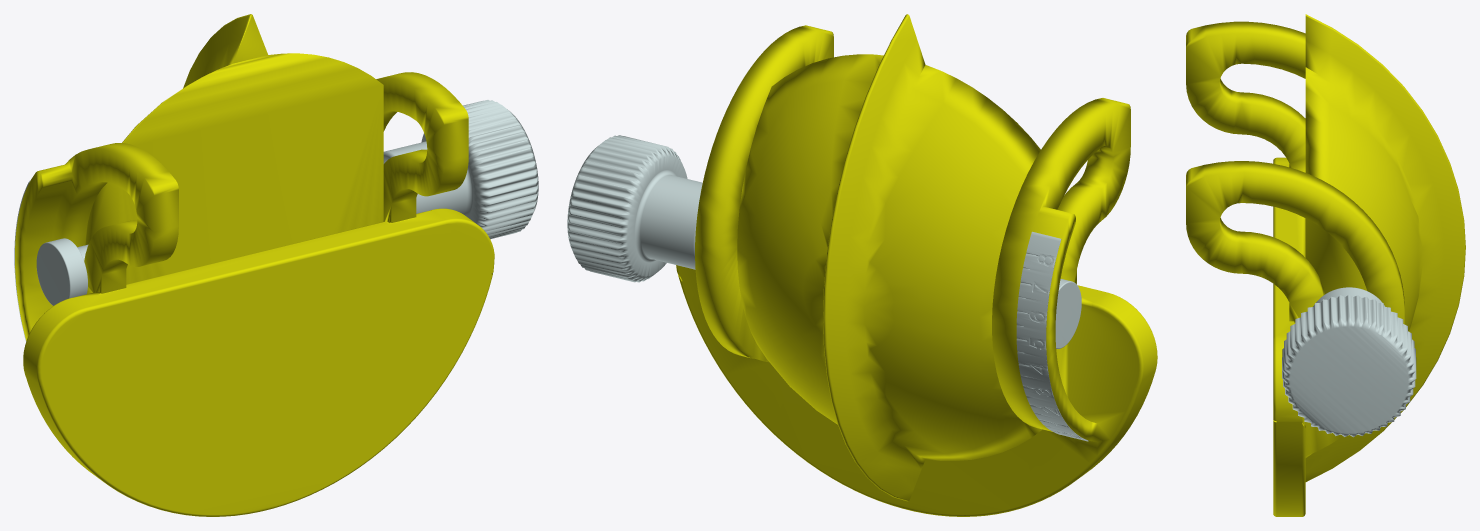
The model's file is tableX_yellow.obj.
3 views of the same model, side by side, from view 1: azimuth 30°, elevation 25°; view 2: azimuth 150°, elevation 25°; view 3: azimuth 270°, elevation 25° (orthographic). The views are drawn at different scales.
Bounding box in the file's own units: 51.88 × 47.28 × 25.1.
